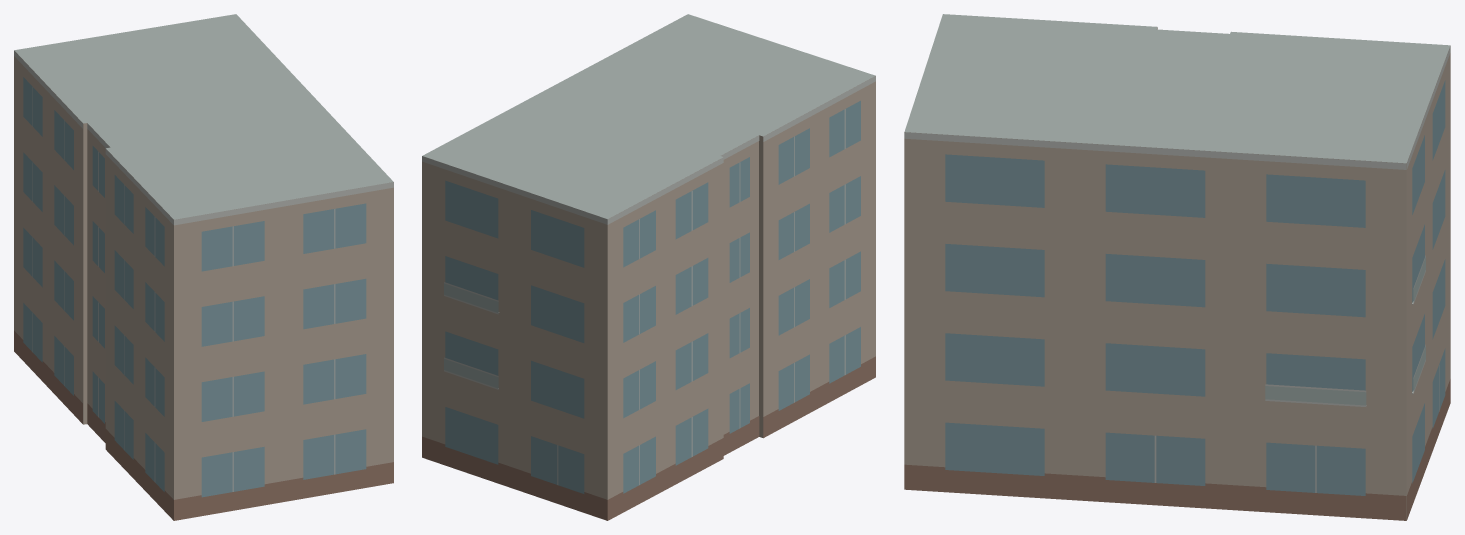
File: survey-upis-32737303.glb
3 renders of one model, left to right at view 1: azimuth 30°, elevation 25°; view 2: azimuth 150°, elevation 25°; view 3: azimuth 270°, elevation 25°, orthographic. The views are drawn at different scales.
Parts seen in each view (by area): view 1: survey-upis-32737303.tmp; view 2: survey-upis-32737303.tmp; view 3: survey-upis-32737303.tmp.
Part boxes in pixels (x1=…): survey-upis-32737303.tmp: x1=14, y1=14, x2=393, y2=520; survey-upis-32737303.tmp: x1=422, y1=14, x2=875, y2=520; survey-upis-32737303.tmp: x1=904, y1=14, x2=1450, y2=520.
Bounding box in the file's own units: 11.7 × 13.05 × 18.08.
